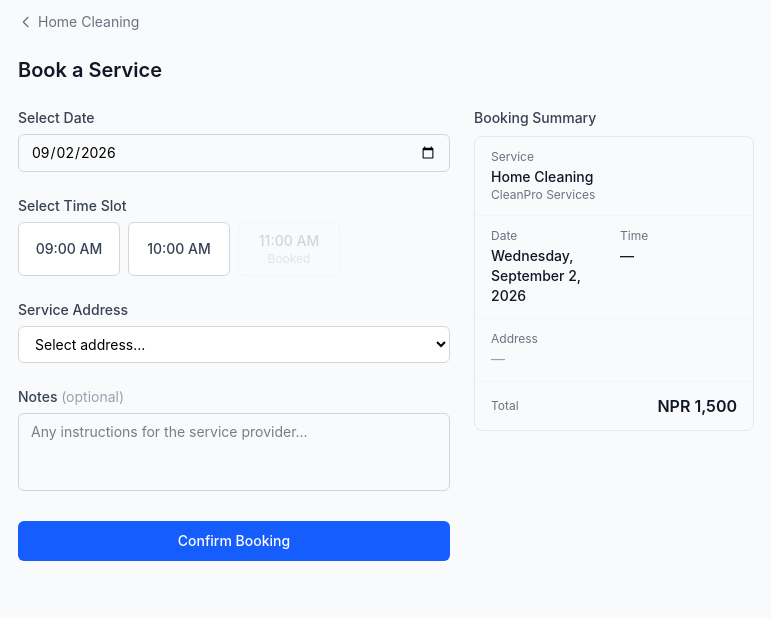
BookingPage › prevents submission when required fields are missing
Expected: the button "09:00 AM" is shown, left=18, top=222, right=120, bottom=276
Click the button "Confirm Booking".
click(234, 541)  # box left=18, top=521, right=450, bottom=561
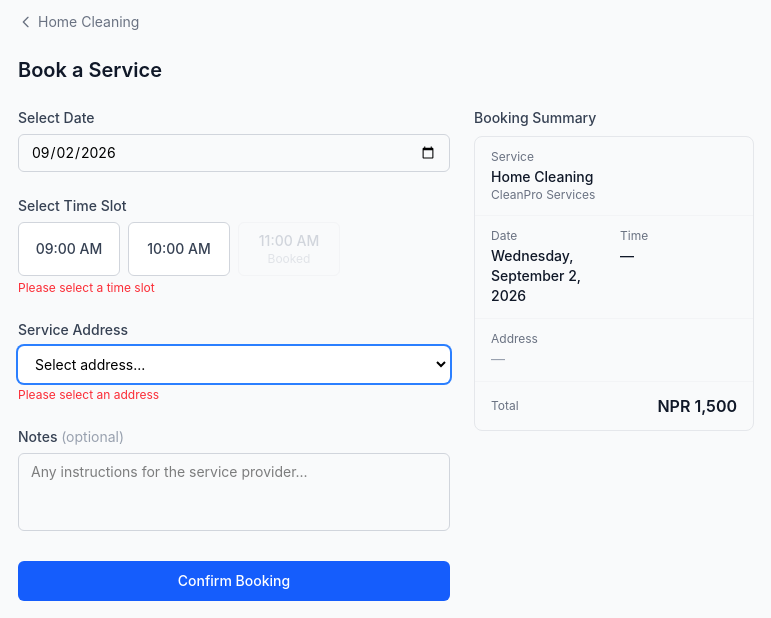
Expected: the text "Please select a time slot" is shown, left=18, top=280, right=155, bottom=295
Expected: the text "Please select an address" is shown, left=18, top=387, right=159, bottom=402
